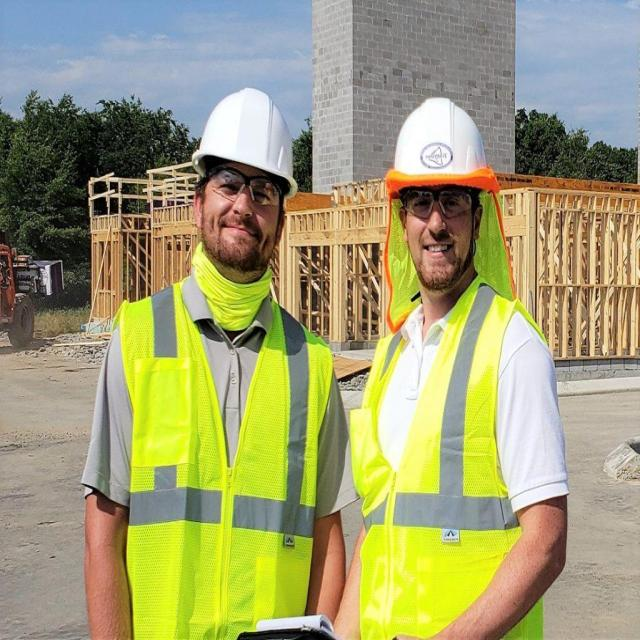Reflective-Jacket: (116, 285, 334, 640), (349, 286, 549, 637)
Safety-Helmet: (381, 91, 502, 197), (190, 82, 301, 193)
